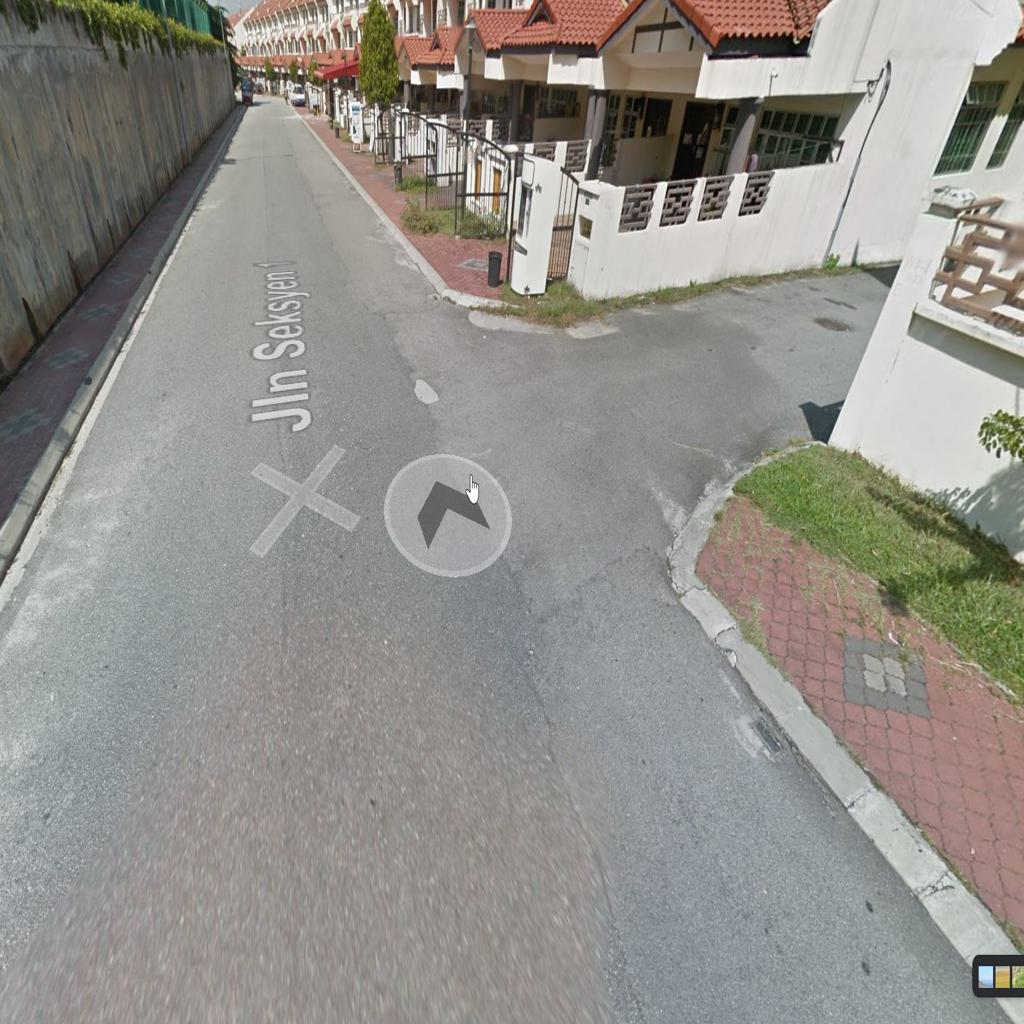Junction: (477, 245, 824, 533)
